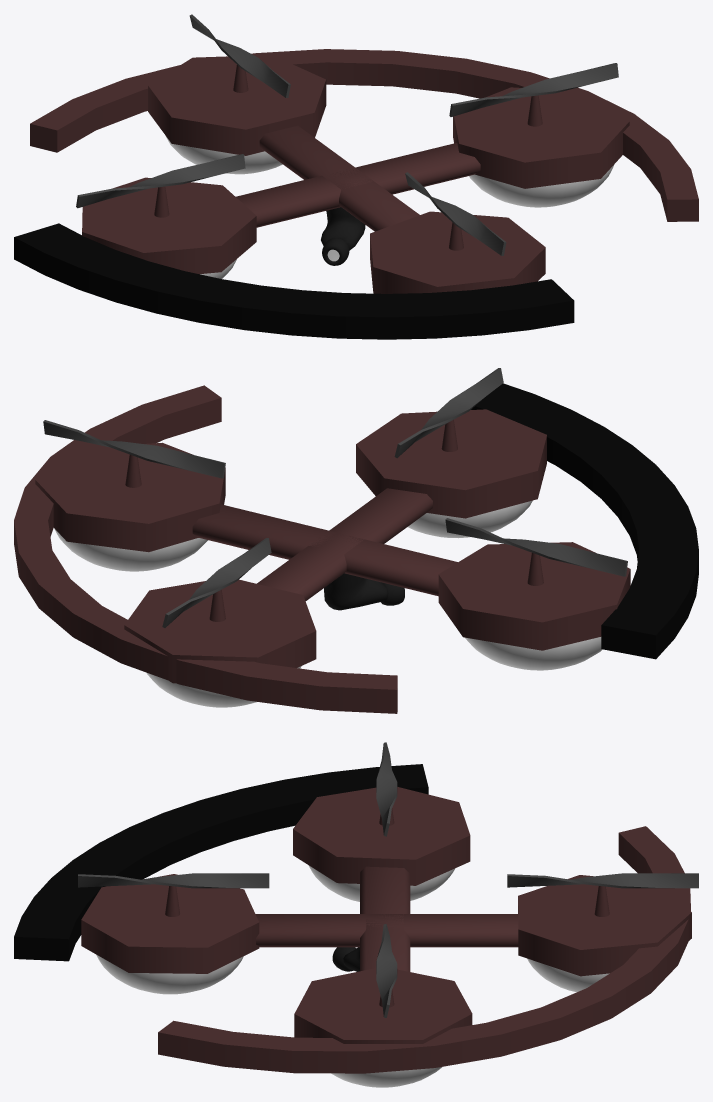
File: simpleDrone.FBX
3 views of the same model, one above another, from view 1: azimuth 30°, elevation 25°; view 2: azimuth 150°, elevation 25°; view 3: azimuth 270°, elevation 25° (orthographic). The views are drawn at different scales.
Visible parts, largest first — view 1: Box006, Box005, Cylinder004, Cylinder001, Cylinder003, Cylinder002, ChamferBox002, ChamferBox001, Sphere003, Box003, Box004, Cone005 (+3 smaller); view 2: Box005, Box006, Cylinder002, Cylinder003, Cylinder004, Cylinder001, ChamferBox002, ChamferBox001, Sphere001, Sphere003, Box003, Box004 (+5 smaller); view 3: Box005, Box006, Cylinder002, Cylinder003, Cylinder001, Cylinder004, ChamferBox001, ChamferBox002, Box002, Box001, Sphere004, Sphere003 (+5 smaller).
Boxes of the visible parts, <box> form: Box006: <box>14,223,574,339</box>; Box005: <box>30,49,698,221</box>; Cylinder004: <box>453,87,629,188</box>; Cylinder001: <box>148,55,326,155</box>; Cylinder003: <box>82,177,256,274</box>; Cylinder002: <box>370,211,545,293</box>; ChamferBox002: <box>236,143,480,227</box>; ChamferBox001: <box>259,125,419,231</box>; Sphere003: <box>469,164,614,207</box>; Box003: <box>76,154,245,208</box>; Box004: <box>449,63,618,116</box>; Cone005: <box>321,207,365,265</box>; Box005: <box>14,385,397,713</box>; Box006: <box>471,383,698,659</box>; Cylinder002: <box>356,409,546,518</box>; Cylinder003: <box>438,542,630,650</box>; Cylinder004: <box>35,442,225,552</box>; Cylinder001: <box>124,579,316,683</box>; ChamferBox002: <box>192,504,457,596</box>; ChamferBox001: <box>257,488,432,601</box>; Sphere001: <box>464,637,602,670</box>; Sphere003: <box>54,528,207,571</box>; Box003: <box>445,518,627,576</box>; Box004: <box>43,420,225,478</box>; Box005: <box>158,826,690,1073</box>; Box006: <box>14,764,428,961</box>; Cylinder002: <box>81,874,259,973</box>; Cylinder003: <box>293,787,470,885</box>; Cylinder001: <box>518,875,691,976</box>; Cylinder004: <box>294,968,472,1043</box>; ChamferBox001: <box>255,914,518,947</box>; ChamferBox002: <box>360,866,410,971</box>; Box002: <box>78,873,269,888</box>; Box001: <box>507,873,698,888</box>; Sphere004: <box>96,954,243,994</box>; Sphere003: <box>331,1067,441,1087</box>.
Size of the model in its own units: 196 by 198 by 35.67.
